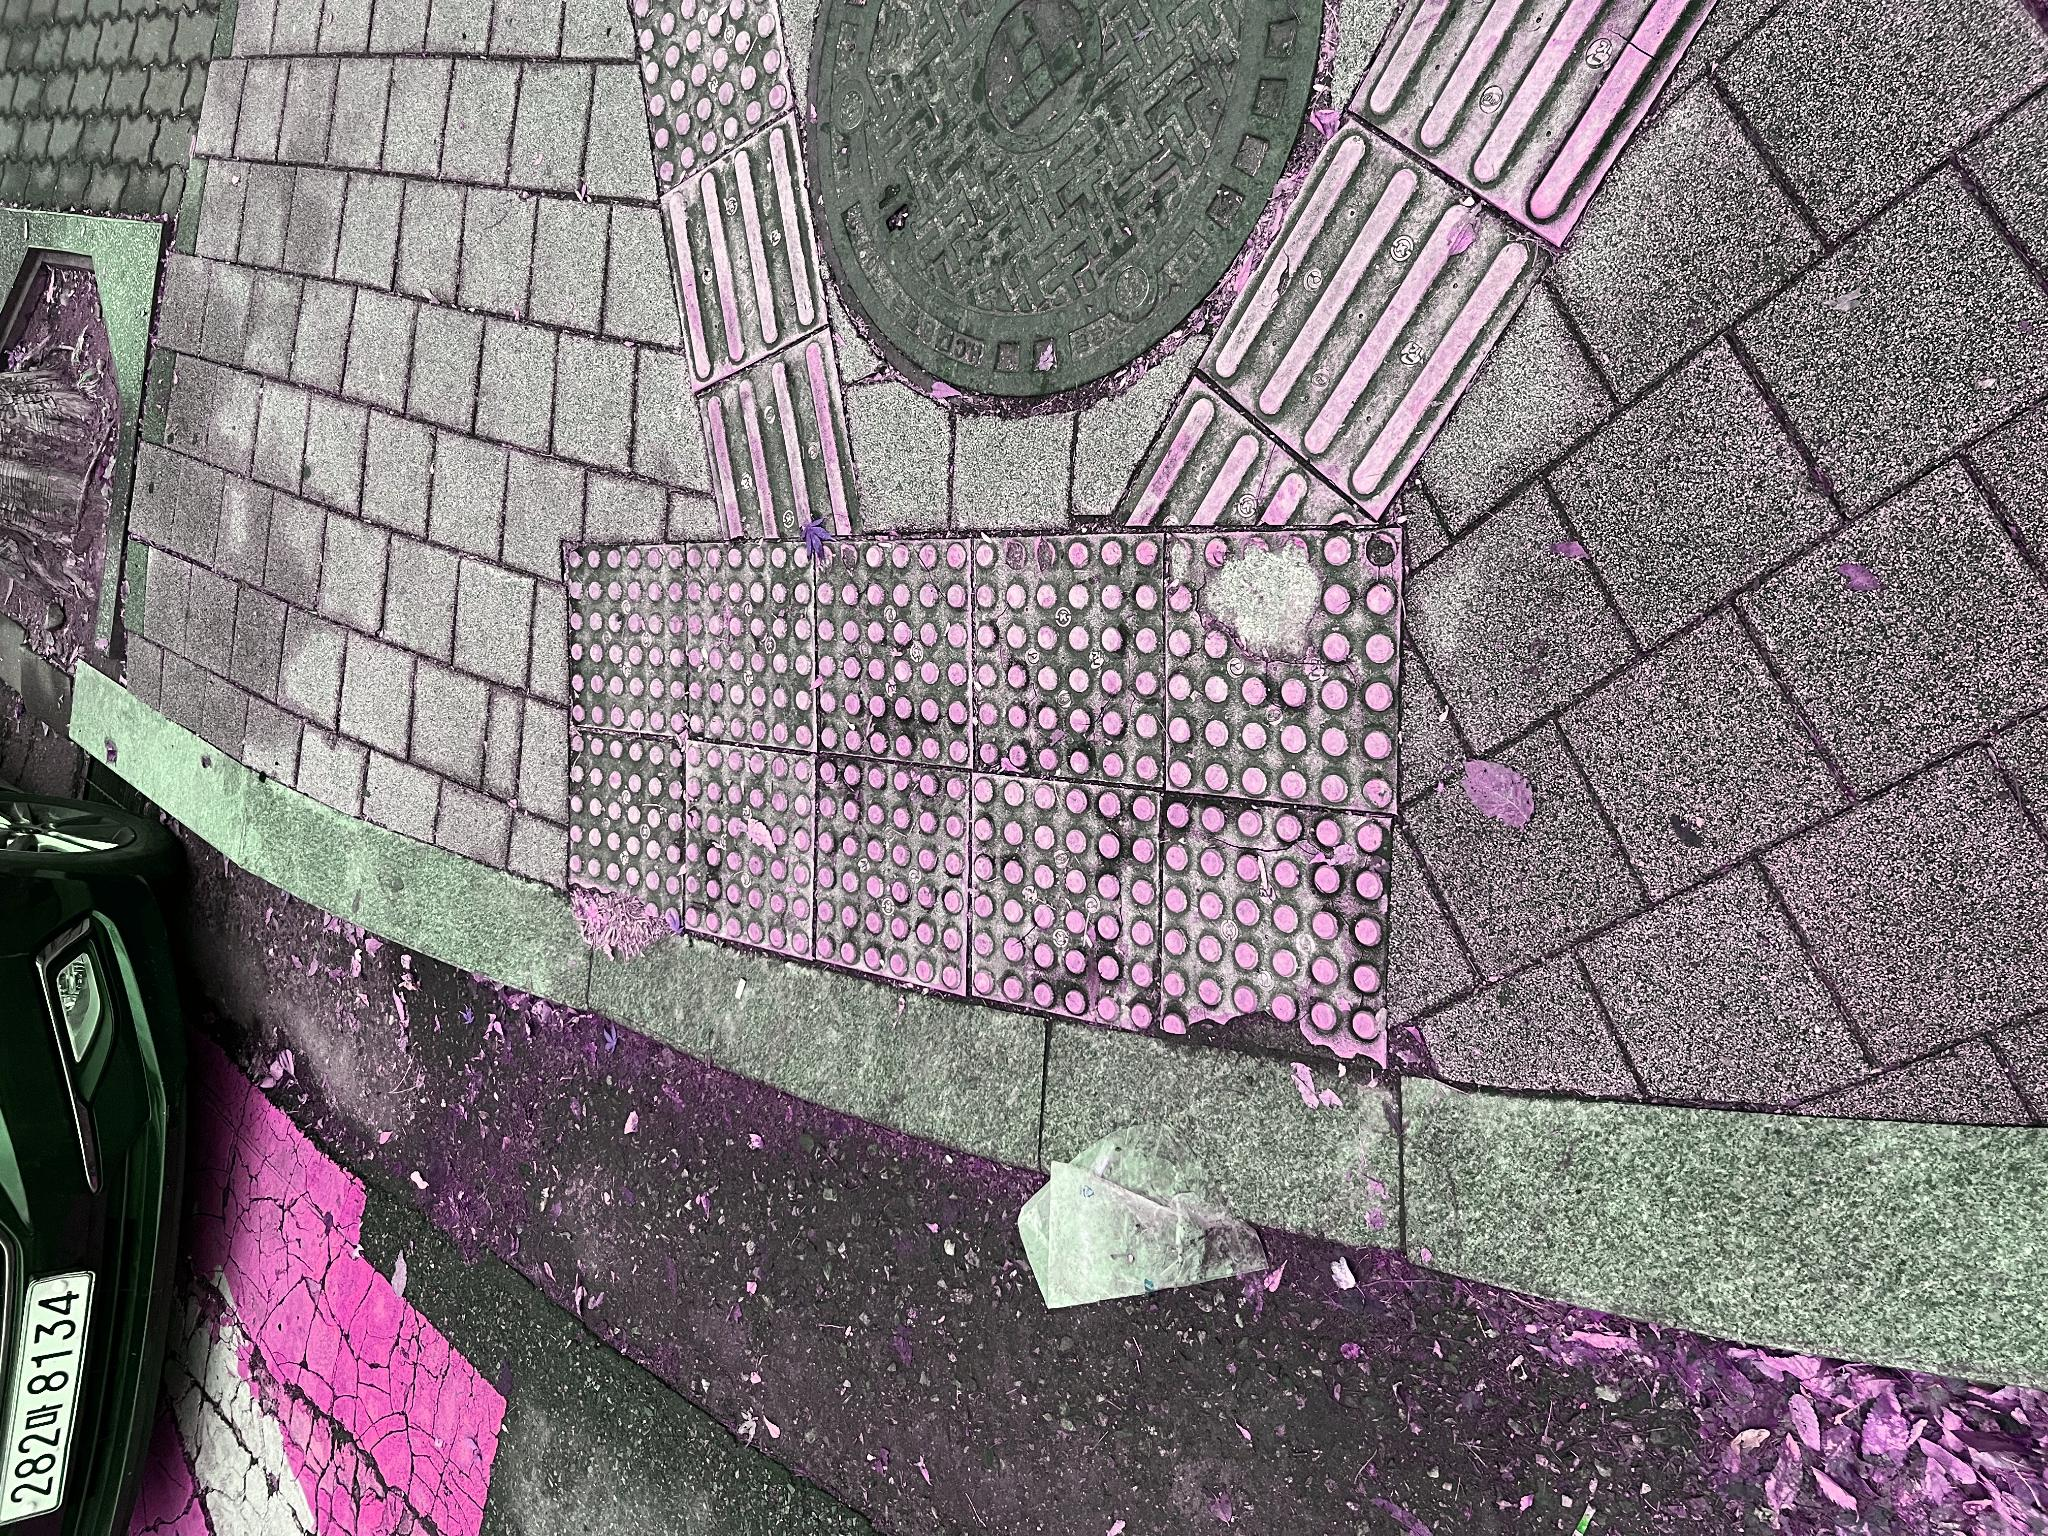Stop block broken: (726, 1167, 1008, 1399), (466, 1160, 743, 1389)
Stop block normal: (542, 815, 780, 968)
